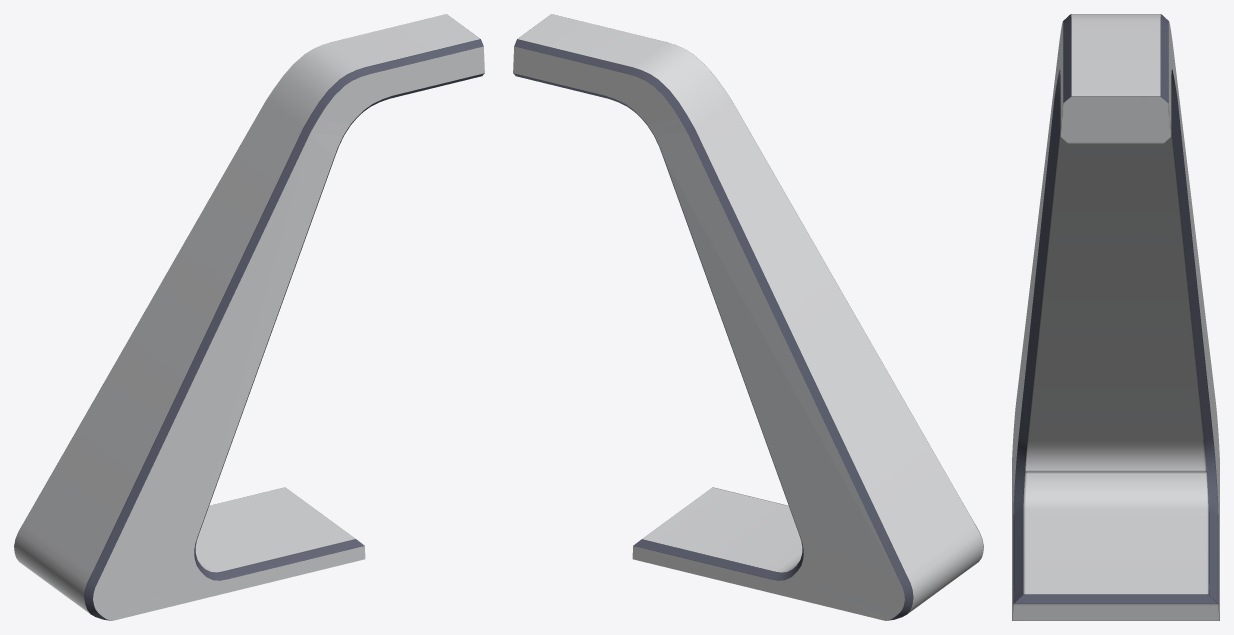
File: Arch_Small_01.FBX
3 views of the same model, side by side, from view 1: azimuth 30°, elevation 25°; view 2: azimuth 150°, elevation 25°; view 3: azimuth 270°, elevation 25° (orthographic). The views are drawn at different scales.
Visible parts, largest first — view 1: Arch_Small_01; view 2: Arch_Small_01; view 3: Arch_Small_01.
Part boxes in pixels (box(x1,y1,x2,y2)): Arch_Small_01: box(14, 14, 484, 620); Arch_Small_01: box(513, 14, 983, 620); Arch_Small_01: box(1012, 14, 1219, 620).
Size of the model in its own units: 6 by 6.5 by 2.
Materials: 1 (1 with a texture image).
